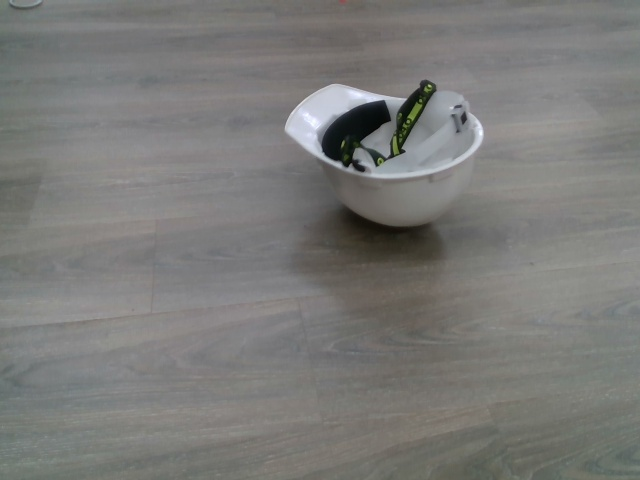helmet: (281, 72, 497, 235)
